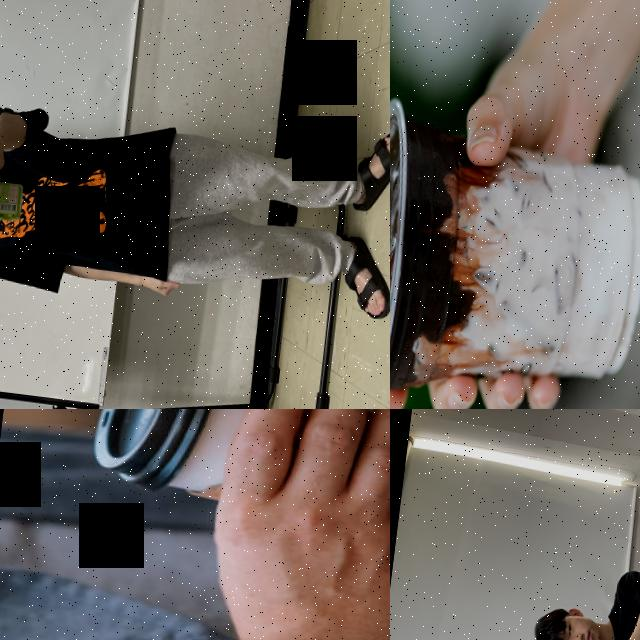can: (0, 169, 27, 225)
cup: (390, 91, 640, 409), (85, 409, 390, 546)
